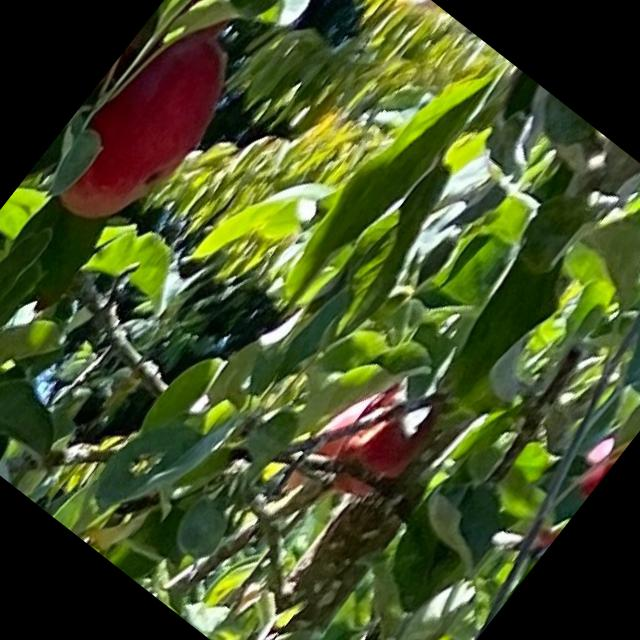Apples: (38, 7, 256, 248), (314, 373, 448, 518)
